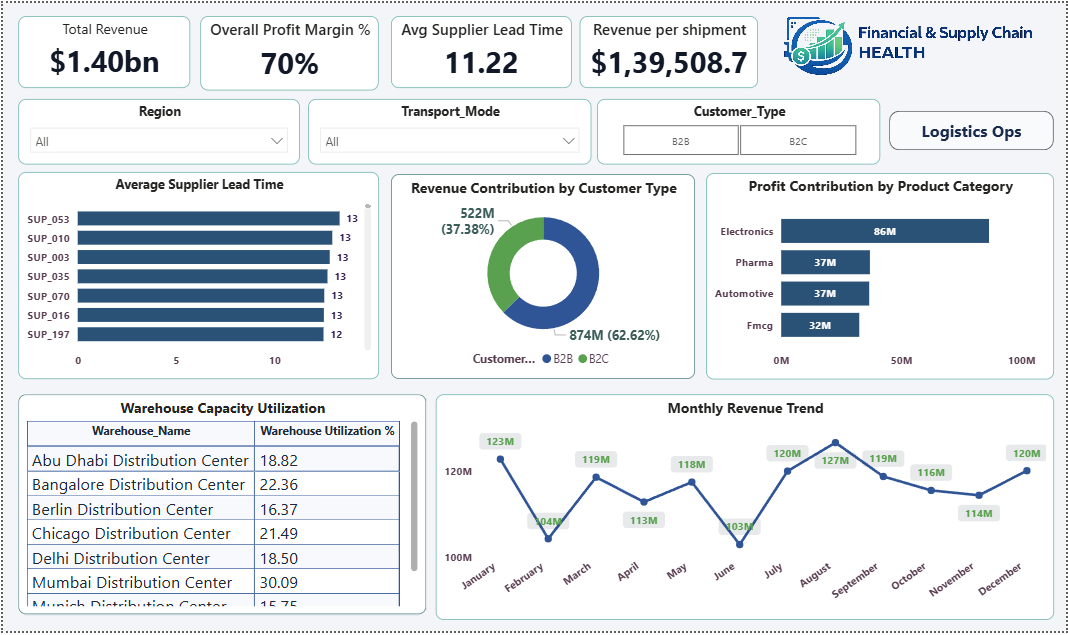

The page's visual inventory and layout, read from the dashboard file:
{"tool":"powerbi","page":{"name":"Financial and supply chain Health","canvas":[1220,720],"ordinal":1},"visuals":[{"type":"card","title":"Total Revenue","fields":{"Values":["Dashboard_2_dax.Total Revenue"]},"box":[17.5,15,197.5,82.5],"z":0},{"type":"card","title":"Overall Profit Margin %","fields":{"Values":["Dashboard_2_dax.Avg Profit Margin %"]},"box":[226,15,205,85],"z":1000},{"type":"card","title":"Avg Supplier Lead Time","fields":{"Values":["Dashboard_2_dax.Avg Supplier Lead Time"]},"box":[445,15,207,83],"z":2000},{"type":"card","title":"Revenue per shipment","fields":{"Values":["Dashboard_2_dax.Revenue per Shipment"]},"box":[661,15,205,83],"z":3000},{"type":"clusteredBarChart","title":"Profit Contribution by Product Category","fields":{"Y":["Sum(shipment.Profit)"],"Category":["product.Category"]},"box":[806.2,195,398.8,236.2],"z":4000},{"type":"donutChart","title":"Revenue Contribution by Customer Type","fields":{"Category":["customer.Customer_Type"],"Y":["Dashboard_2_dax.Total Revenue"]},"box":[445,196.2,348.8,235],"z":5000},{"type":"tableEx","title":"Warehouse Capacity Utilization","fields":{"Values":["warehouse.Warehouse_Name","Dashboard_2_dax.Warehouse Utilization %"]},"box":[17.5,448.8,467.5,252.5],"z":6000},{"type":"clusteredBarChart","title":"Average Supplier Lead Time","fields":{"Category":["supplier.Supplier_ID"],"Y":["Avg(purchase.Lead_Time_Actual)"]},"box":[17.5,193.8,413.8,237.5],"z":7000},{"type":"image","box":[875,15,330,70],"z":8000},{"type":"slicer","title":"Region","fields":{"Values":["customer.Region"]},"box":[17,110,323,75],"z":9000},{"type":"slicer","title":"Transport_Mode","fields":{"Values":["product.Category"]},"box":[350,110,325,75],"z":10000},{"type":"slicer","title":"Customer_Type","fields":{"Values":["customer.Customer_Type"]},"box":[681.2,110,325,75],"z":11000},{"type":"lineChart","title":"Monthly Revenue Trend","fields":{"Category":["sales.Order_Date.Variation.Date Hierarchy.Month"],"Y":["Dashboard_2_dax.Total Revenue"]},"box":[496.2,448.8,708.8,258.8],"z":12000},{"type":"actionButton","box":[1016.2,123.8,188.8,45],"z":13000}]}

Visuals, with their boxes in screenshot pixels (x1, y1, x2, y2), scaled from the page's 1220x720 canvas onto the 1068x635 screenshot:
"Total Revenue" card: <region>15, 13, 188, 86</region>
"Overall Profit Margin %" card: <region>198, 13, 377, 88</region>
"Avg Supplier Lead Time" card: <region>390, 13, 571, 86</region>
"Revenue per shipment" card: <region>579, 13, 758, 86</region>
"Profit Contribution by Product Category" clusteredBarChart: <region>706, 172, 1055, 380</region>
"Revenue Contribution by Customer Type" donutChart: <region>390, 173, 695, 380</region>
"Warehouse Capacity Utilization" tableEx: <region>15, 396, 425, 619</region>
"Average Supplier Lead Time" clusteredBarChart: <region>15, 171, 378, 380</region>
image: <region>766, 13, 1055, 75</region>
"Region" slicer: <region>15, 97, 298, 163</region>
"Transport_Mode" slicer: <region>306, 97, 591, 163</region>
"Customer_Type" slicer: <region>596, 97, 881, 163</region>
"Monthly Revenue Trend" lineChart: <region>434, 396, 1055, 624</region>
actionButton: <region>890, 109, 1055, 149</region>
